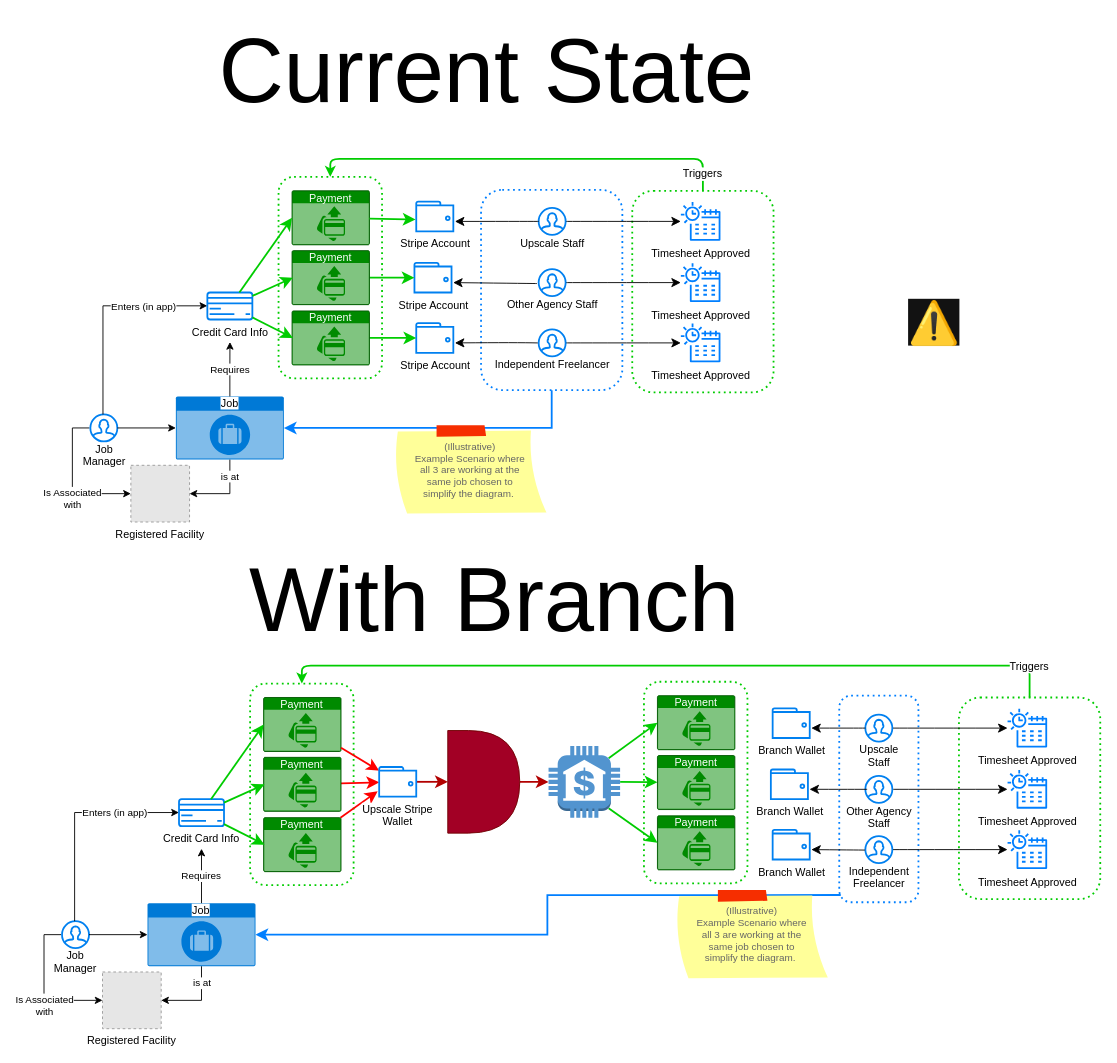
Some shapes in this 1117 by 1063 pixel diagram are drawn without their labels. Grey dashed boxes stand in for pictures. Here are the shapes that lost their labels. From the top down, the centre of each, then its label:
the point at 483,781: ⚠️ Few Day Delay
the point at 584,781: Upscale Bank Account
